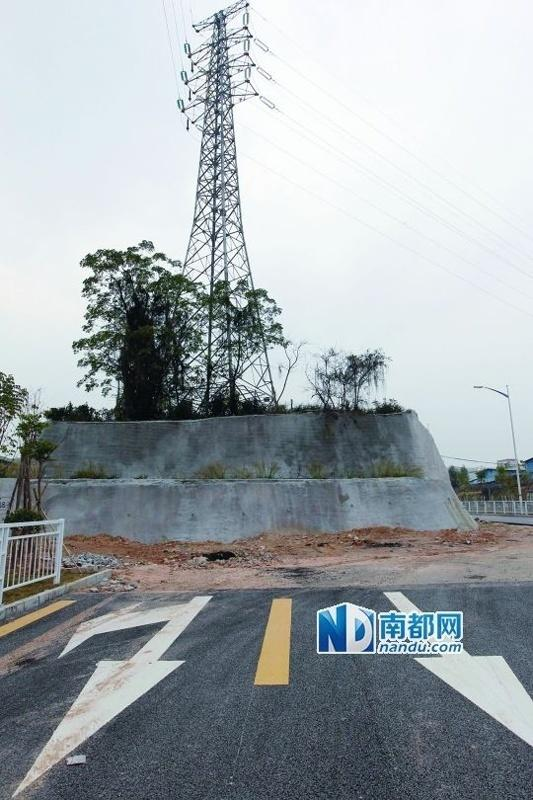power_tower: (163, 4, 270, 407)
